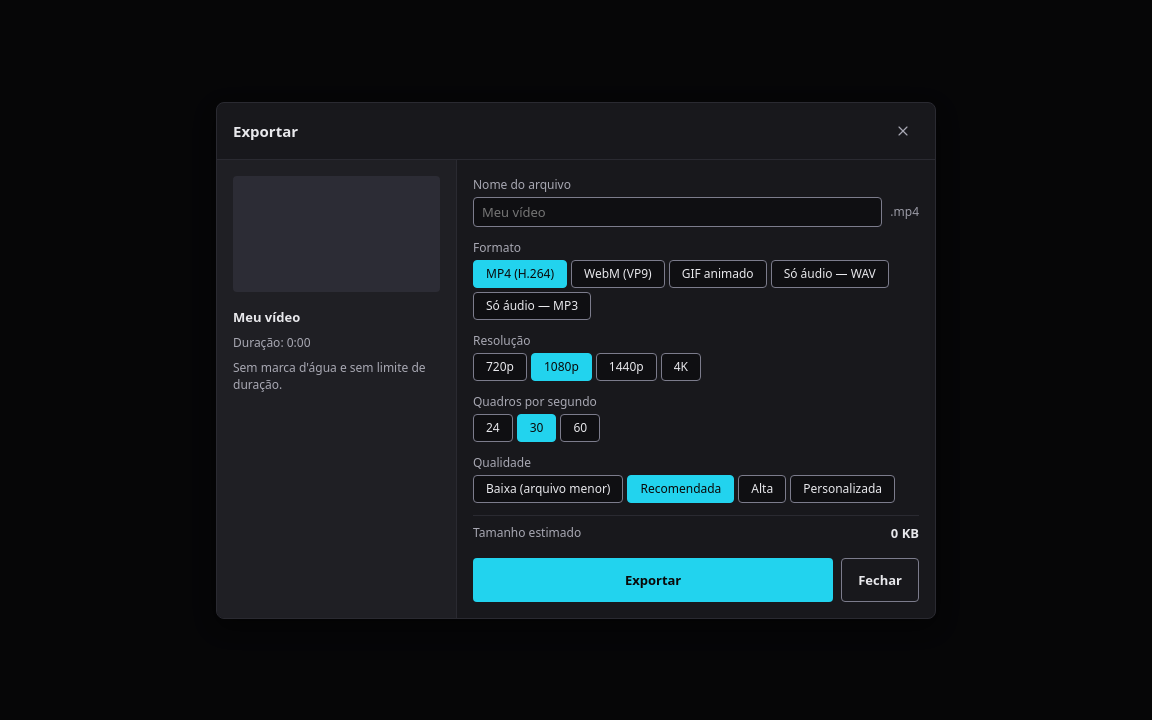
Test case: ExportDialog › ao concluir baixa o arquivo e mostra a confirmação
Click the button "Exportar".
click(653, 580)  # box [473,558,833,602]
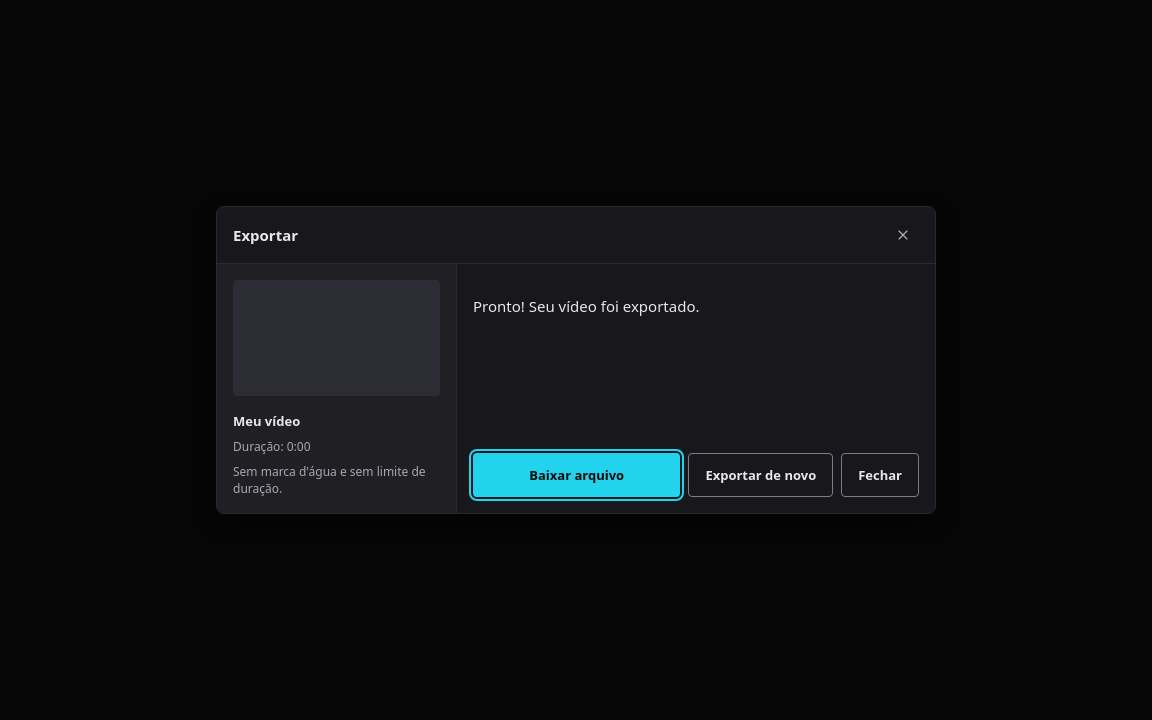
Expected: the text "Pronto! Seu vídeo foi exportado." is shown, [473,296,700,316]
